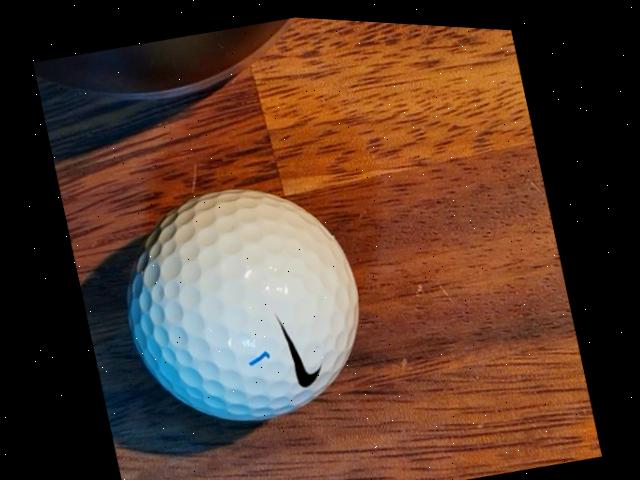Ball: (104, 158, 386, 449)
Nike: (277, 305, 330, 390)
